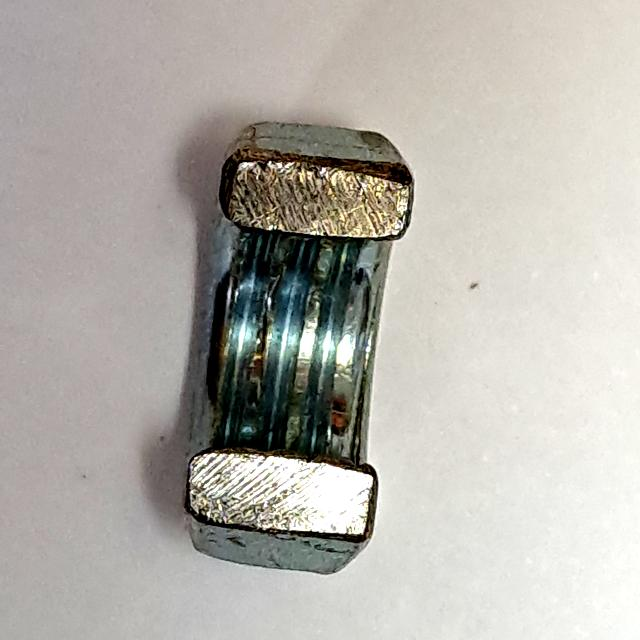Side-Fracture: (166, 107, 430, 594)
